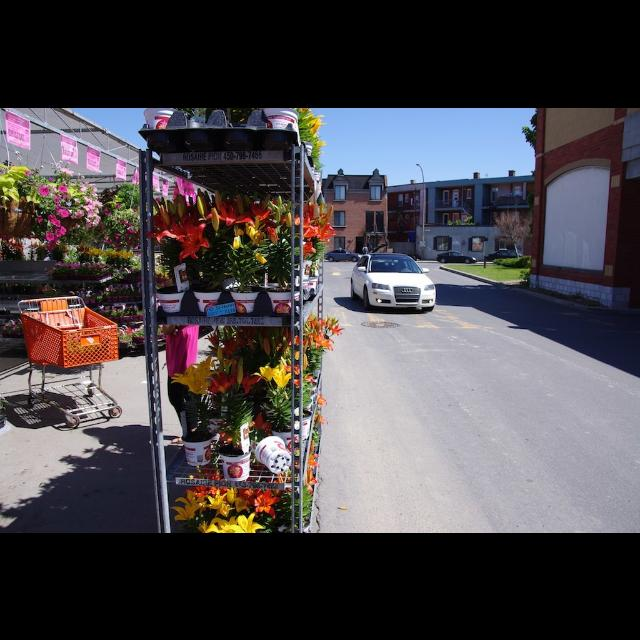Flower: (171, 311, 345, 399), (171, 444, 315, 532), (148, 195, 336, 258), (0, 166, 136, 250), (298, 108, 324, 150), (51, 262, 113, 272), (315, 414, 329, 426), (316, 394, 326, 408)
